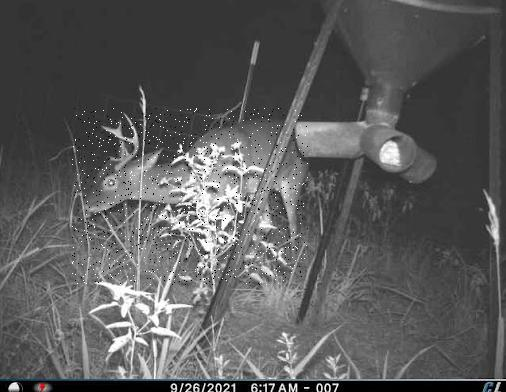Deer: (72, 108, 308, 285)
